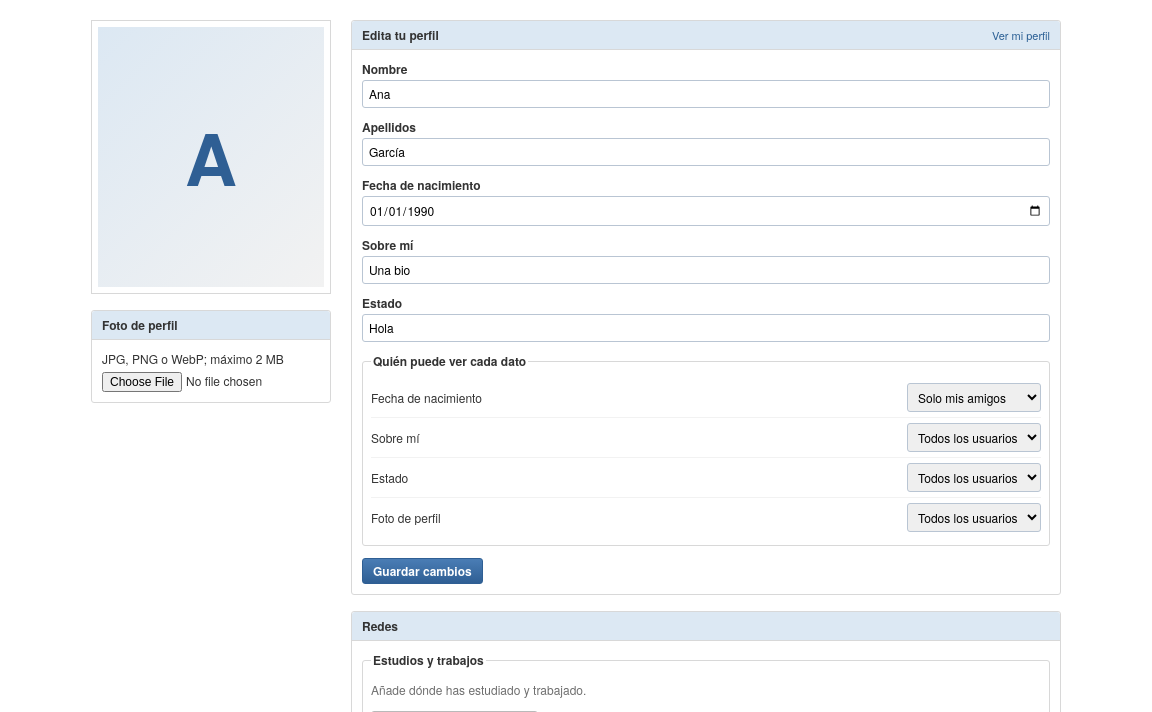
ProfileEdit › edits profile details with field-level privacy options
This screenshot has width=1152, height=712.
Replace the text in the field labelled "Sobre mí" with "Me gusta viajar.". click: (706, 270)
box: [362,256,1050,284]
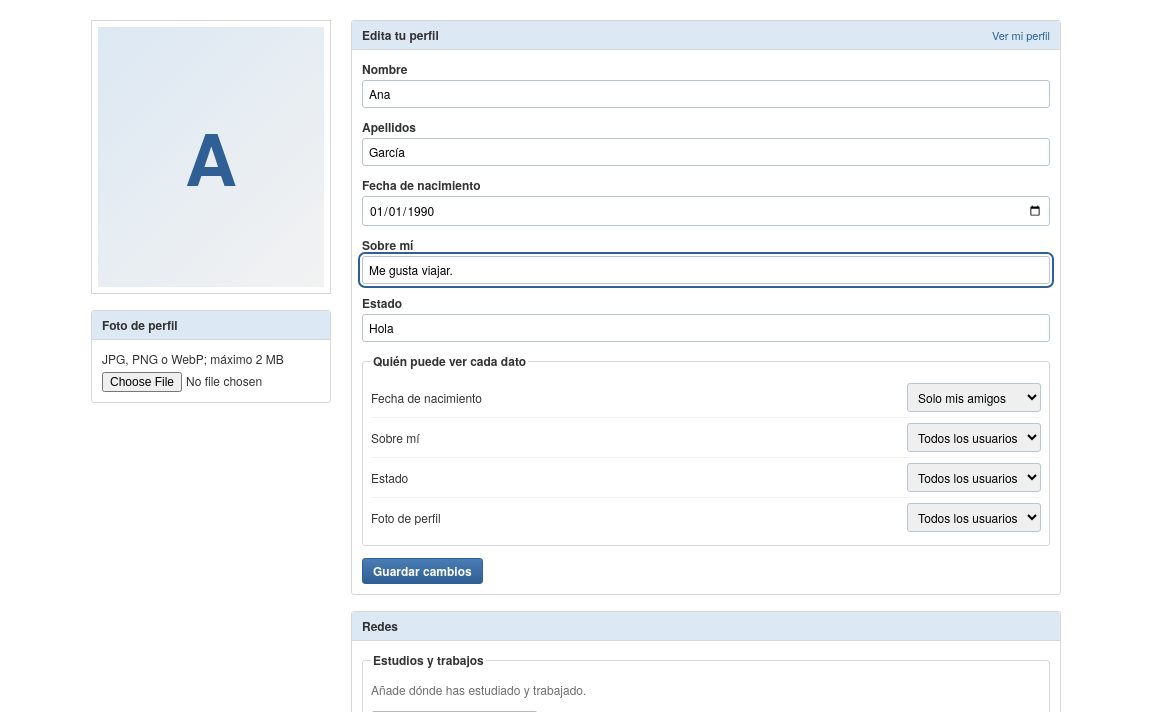
Select "Solo mis amigos" in the dropdown named "Visibilidad: Sobre mí". click: (974, 438)
box: [907,423,1041,452]
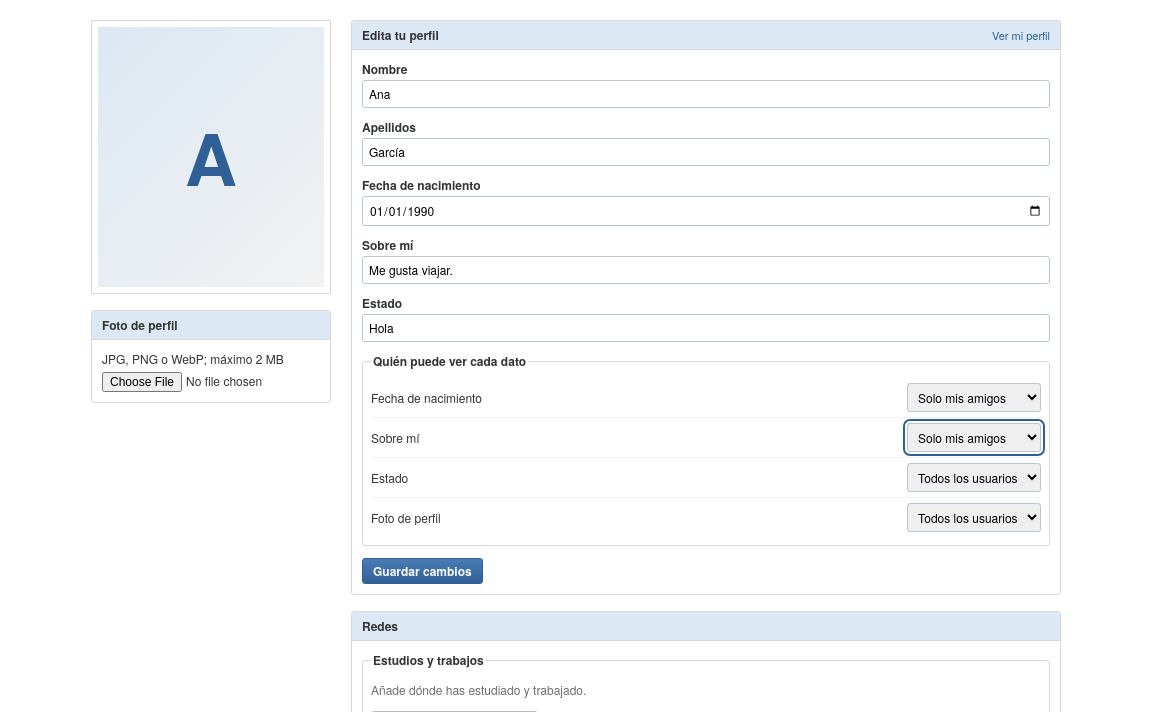
Click the button "Guardar cambios". click: (422, 571)
box: [362,558,483,584]
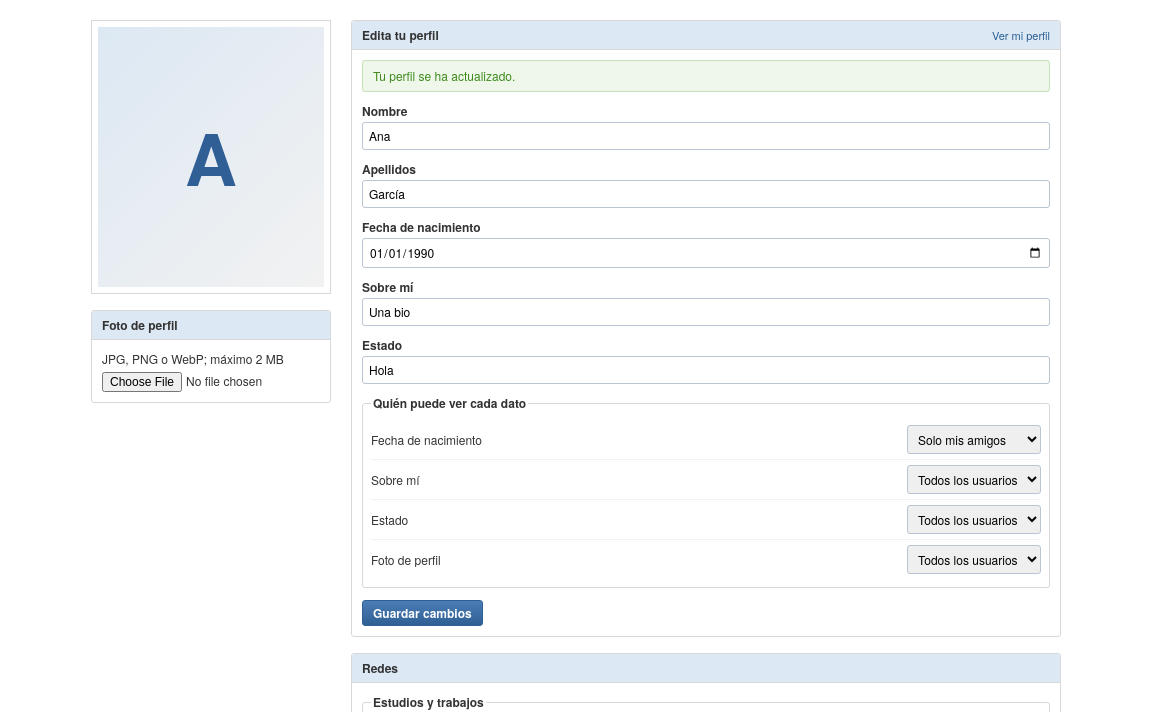
Now the text "Tu perfil se ha actualizado." is shown, box [362,60,1050,92]
